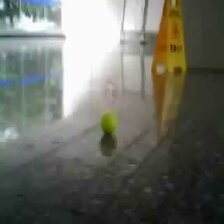tennis: (100, 111, 117, 133)
